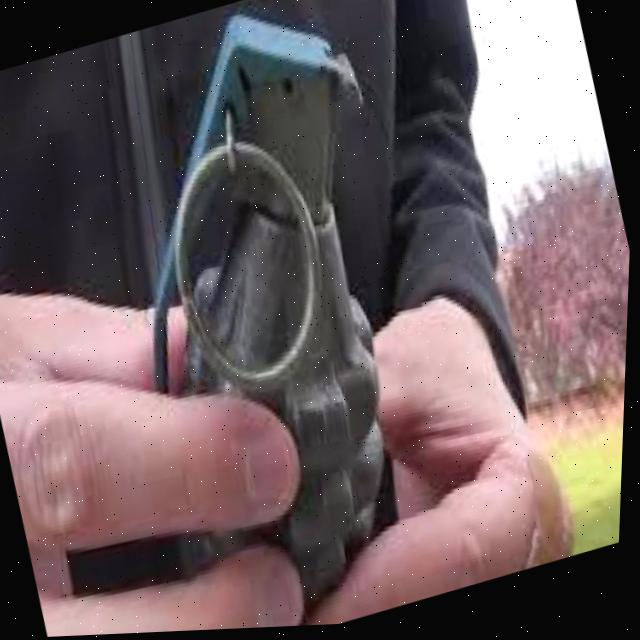grenade: (48, 0, 493, 638)
